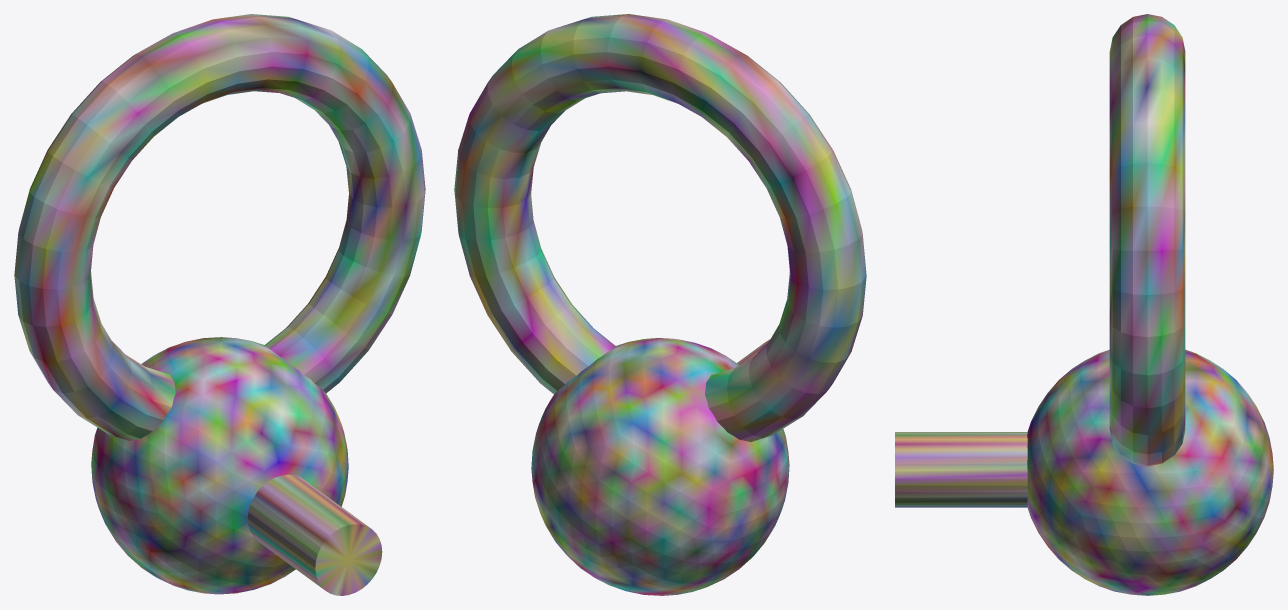
The picture shows the model from 3 angles, left to right: view 1: azimuth 30°, elevation 25°; view 2: azimuth 150°, elevation 25°; view 3: azimuth 270°, elevation 25°; orthographic projection. The views are drawn at different scales.
Parts seen in each view (by area): view 1: world; view 2: world; view 3: world.
Part boxes in pixels (<box>): world: <box>14,14,425,595</box>; world: <box>454,14,866,595</box>; world: <box>895,14,1273,595</box>.
Bounding box in the file's own units: 3.6 × 4.8 × 3.
